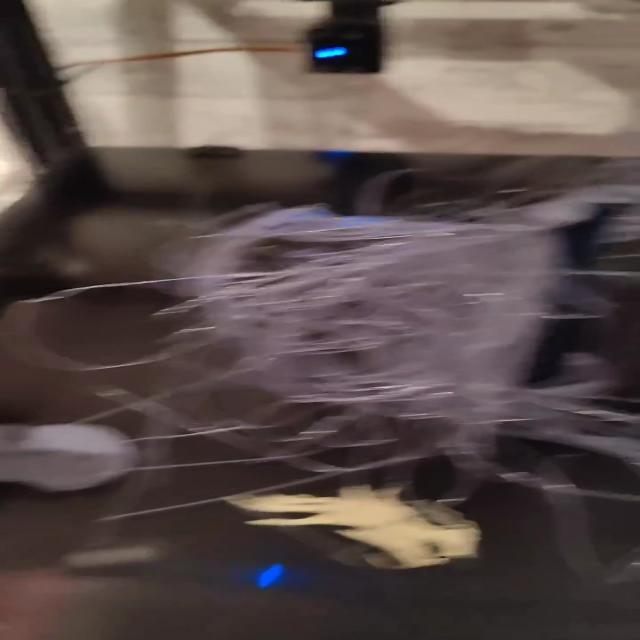spaghetti: (25, 178, 640, 511)
